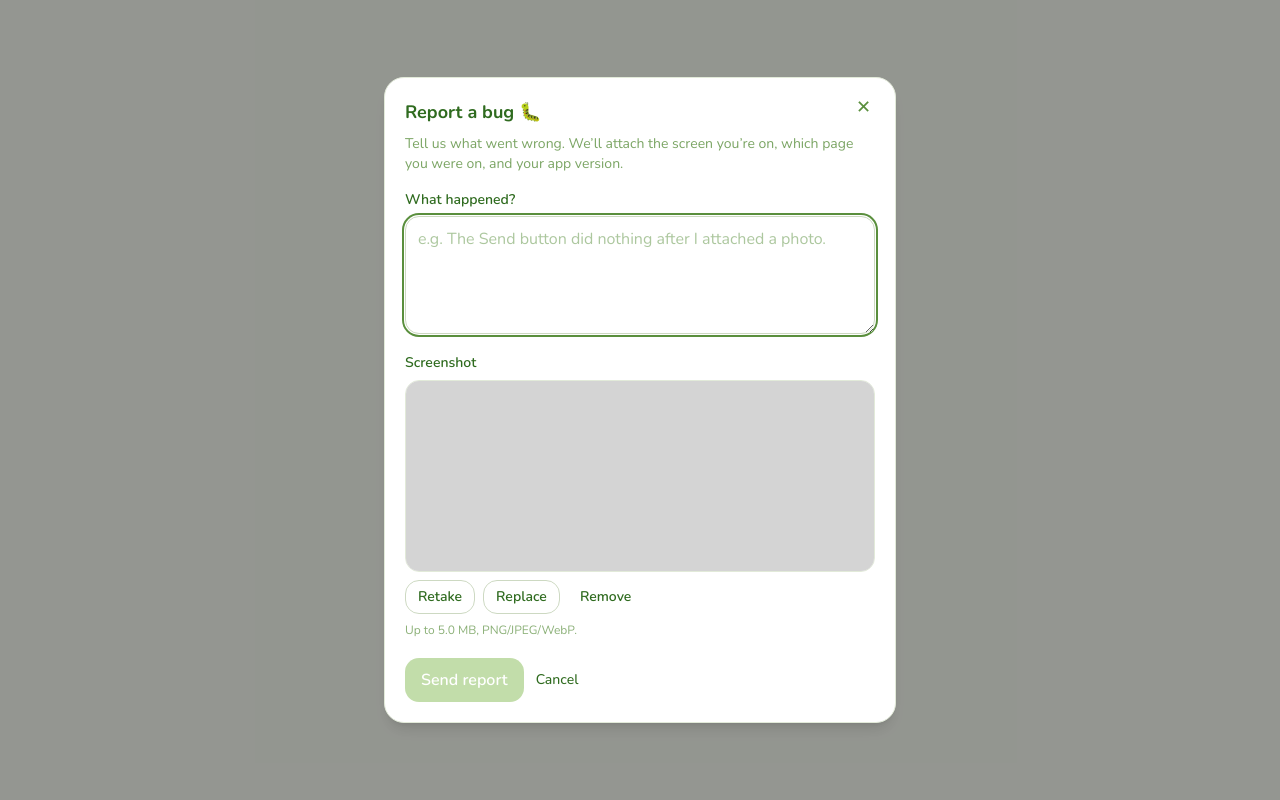
Scenario: ReportBugModal — submit › sends the description, the context, and the screenshot, then confirms WHERE it landed
Type "Send did nothing" into the text box with test id "report-bug-body". click: point(640, 275)
box: [405,216,875,334]
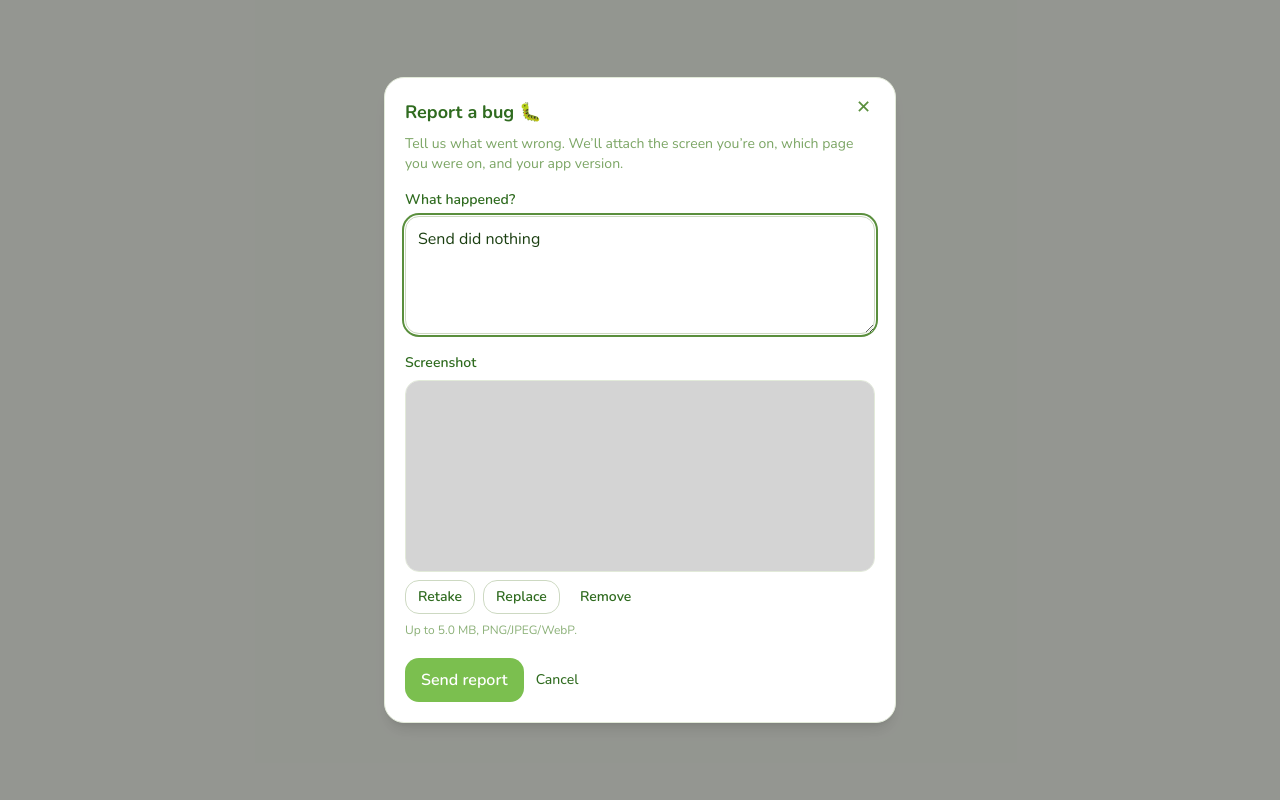
Click the button with test id "report-bug-submit". click: point(464, 680)
box: [405,658,524,702]
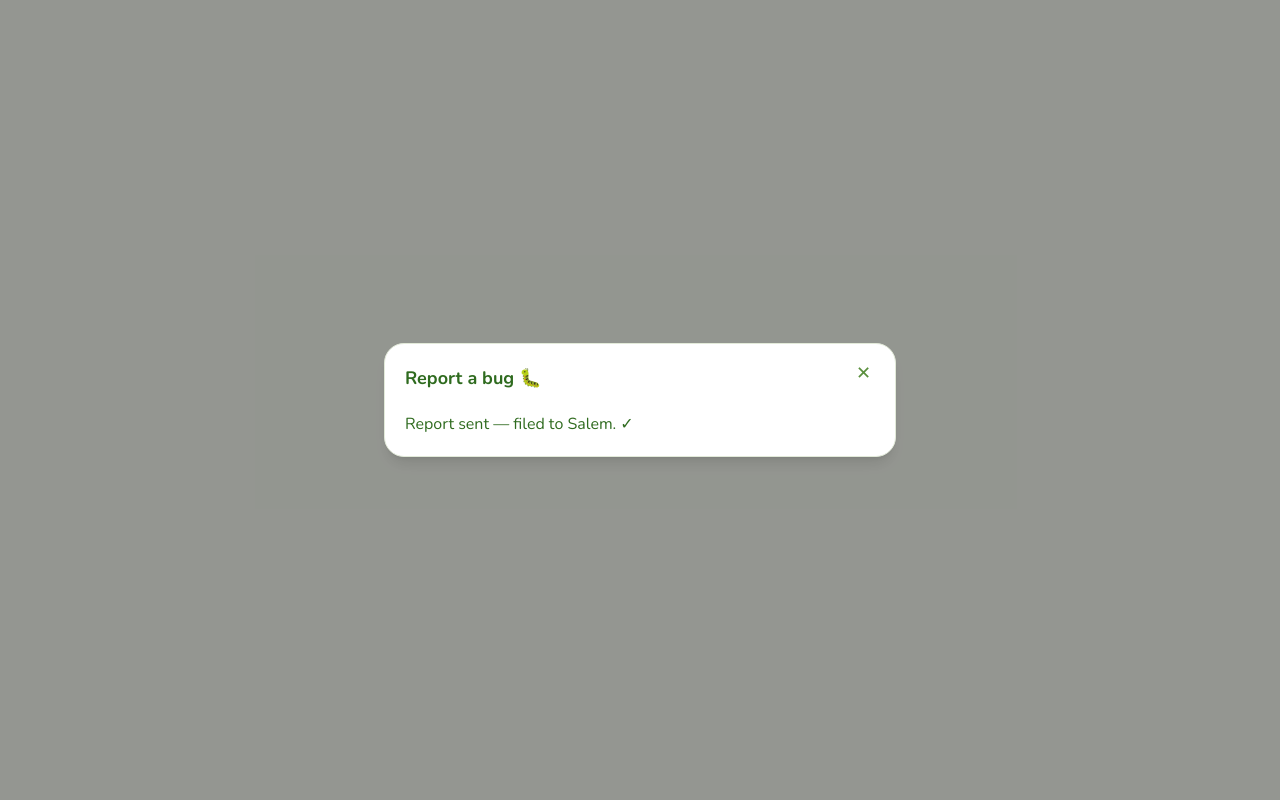
Now the text with test id "report-bug-success" shows "Report sent", box [405,413,567,435]
Now the text with test id "report-bug-success" shows "Salem", box [567,413,613,435]
